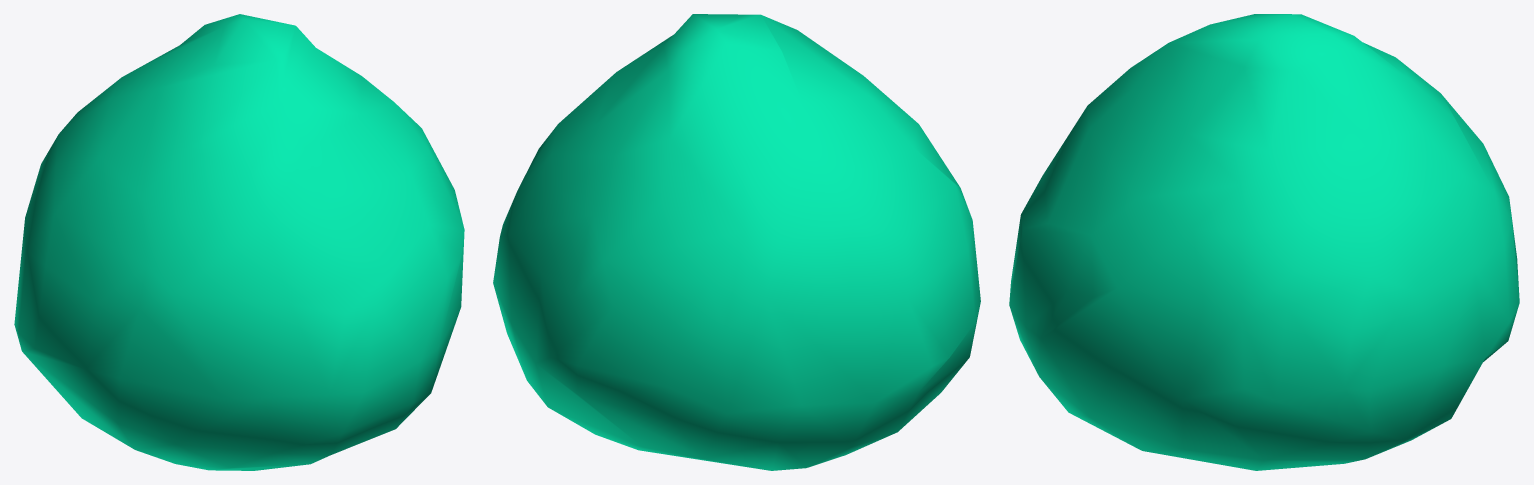
Rendered from Slime.fbx.
3 views of the same model, side by side, from view 1: azimuth 30°, elevation 25°; view 2: azimuth 150°, elevation 25°; view 3: azimuth 270°, elevation 25° (orthographic). The views are drawn at different scales.
Visible parts, largest first — view 1: Mball.002; view 2: Mball.002; view 3: Mball.002.
Boxes of the visible parts, x1,y1,x2,y2 form: Mball.002: [14, 14, 464, 470]; Mball.002: [493, 14, 980, 470]; Mball.002: [1009, 14, 1519, 470].
Bounding box in the file's own units: 266 × 252 × 267.
